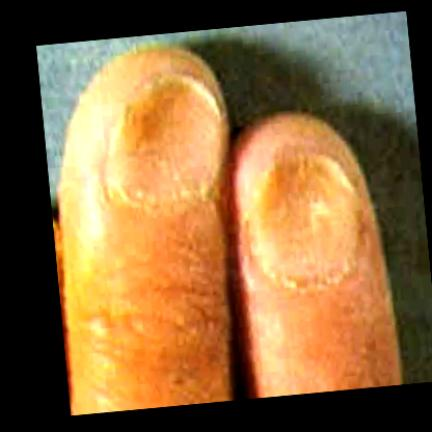Nail: (110, 74, 223, 205), (254, 154, 362, 279)
